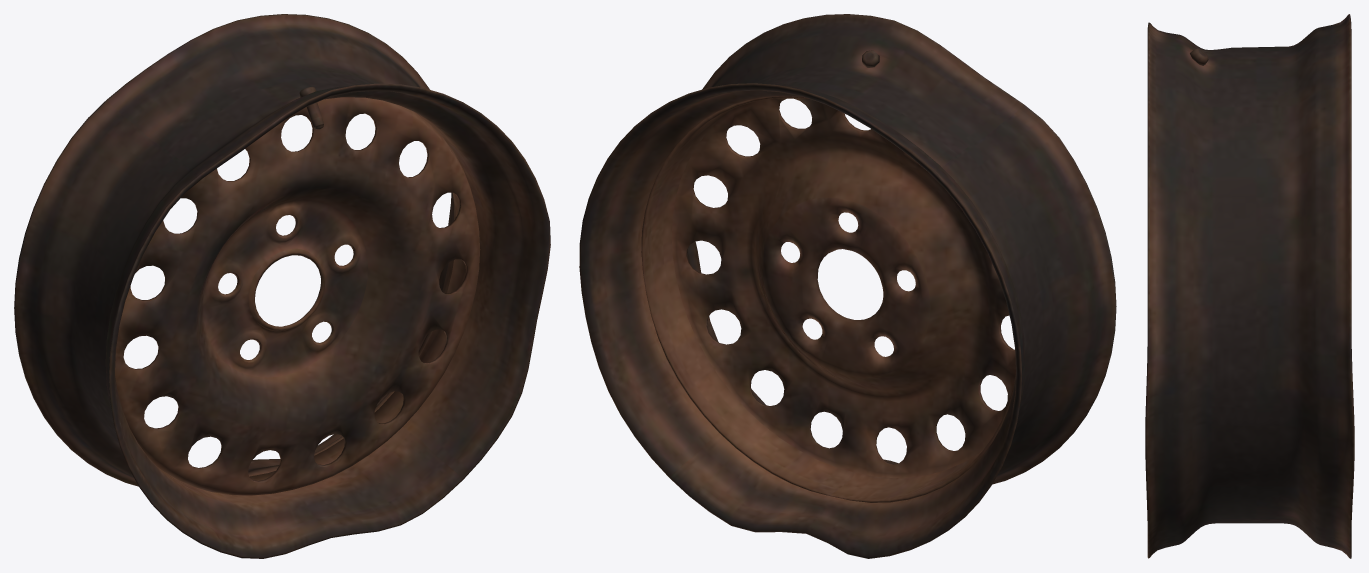
Rendered from rusted_wheel_rim_01.glb.
3 views of the same model, side by side, from view 1: azimuth 30°, elevation 25°; view 2: azimuth 150°, elevation 25°; view 3: azimuth 270°, elevation 25° (orthographic). The views are drawn at different scales.
Parts seen in each view (by area): view 1: rusted_wheel_rim_01; view 2: rusted_wheel_rim_01; view 3: rusted_wheel_rim_01.
Boxes of the visible parts, x1,y1,x2,y2 form: rusted_wheel_rim_01: (14, 14, 550, 558); rusted_wheel_rim_01: (579, 14, 1116, 558); rusted_wheel_rim_01: (1145, 14, 1354, 558).
Bounding box in the file's own units: 0.4029 × 0.3955 × 0.1541.
Materials: 1 (1 with a texture image).
